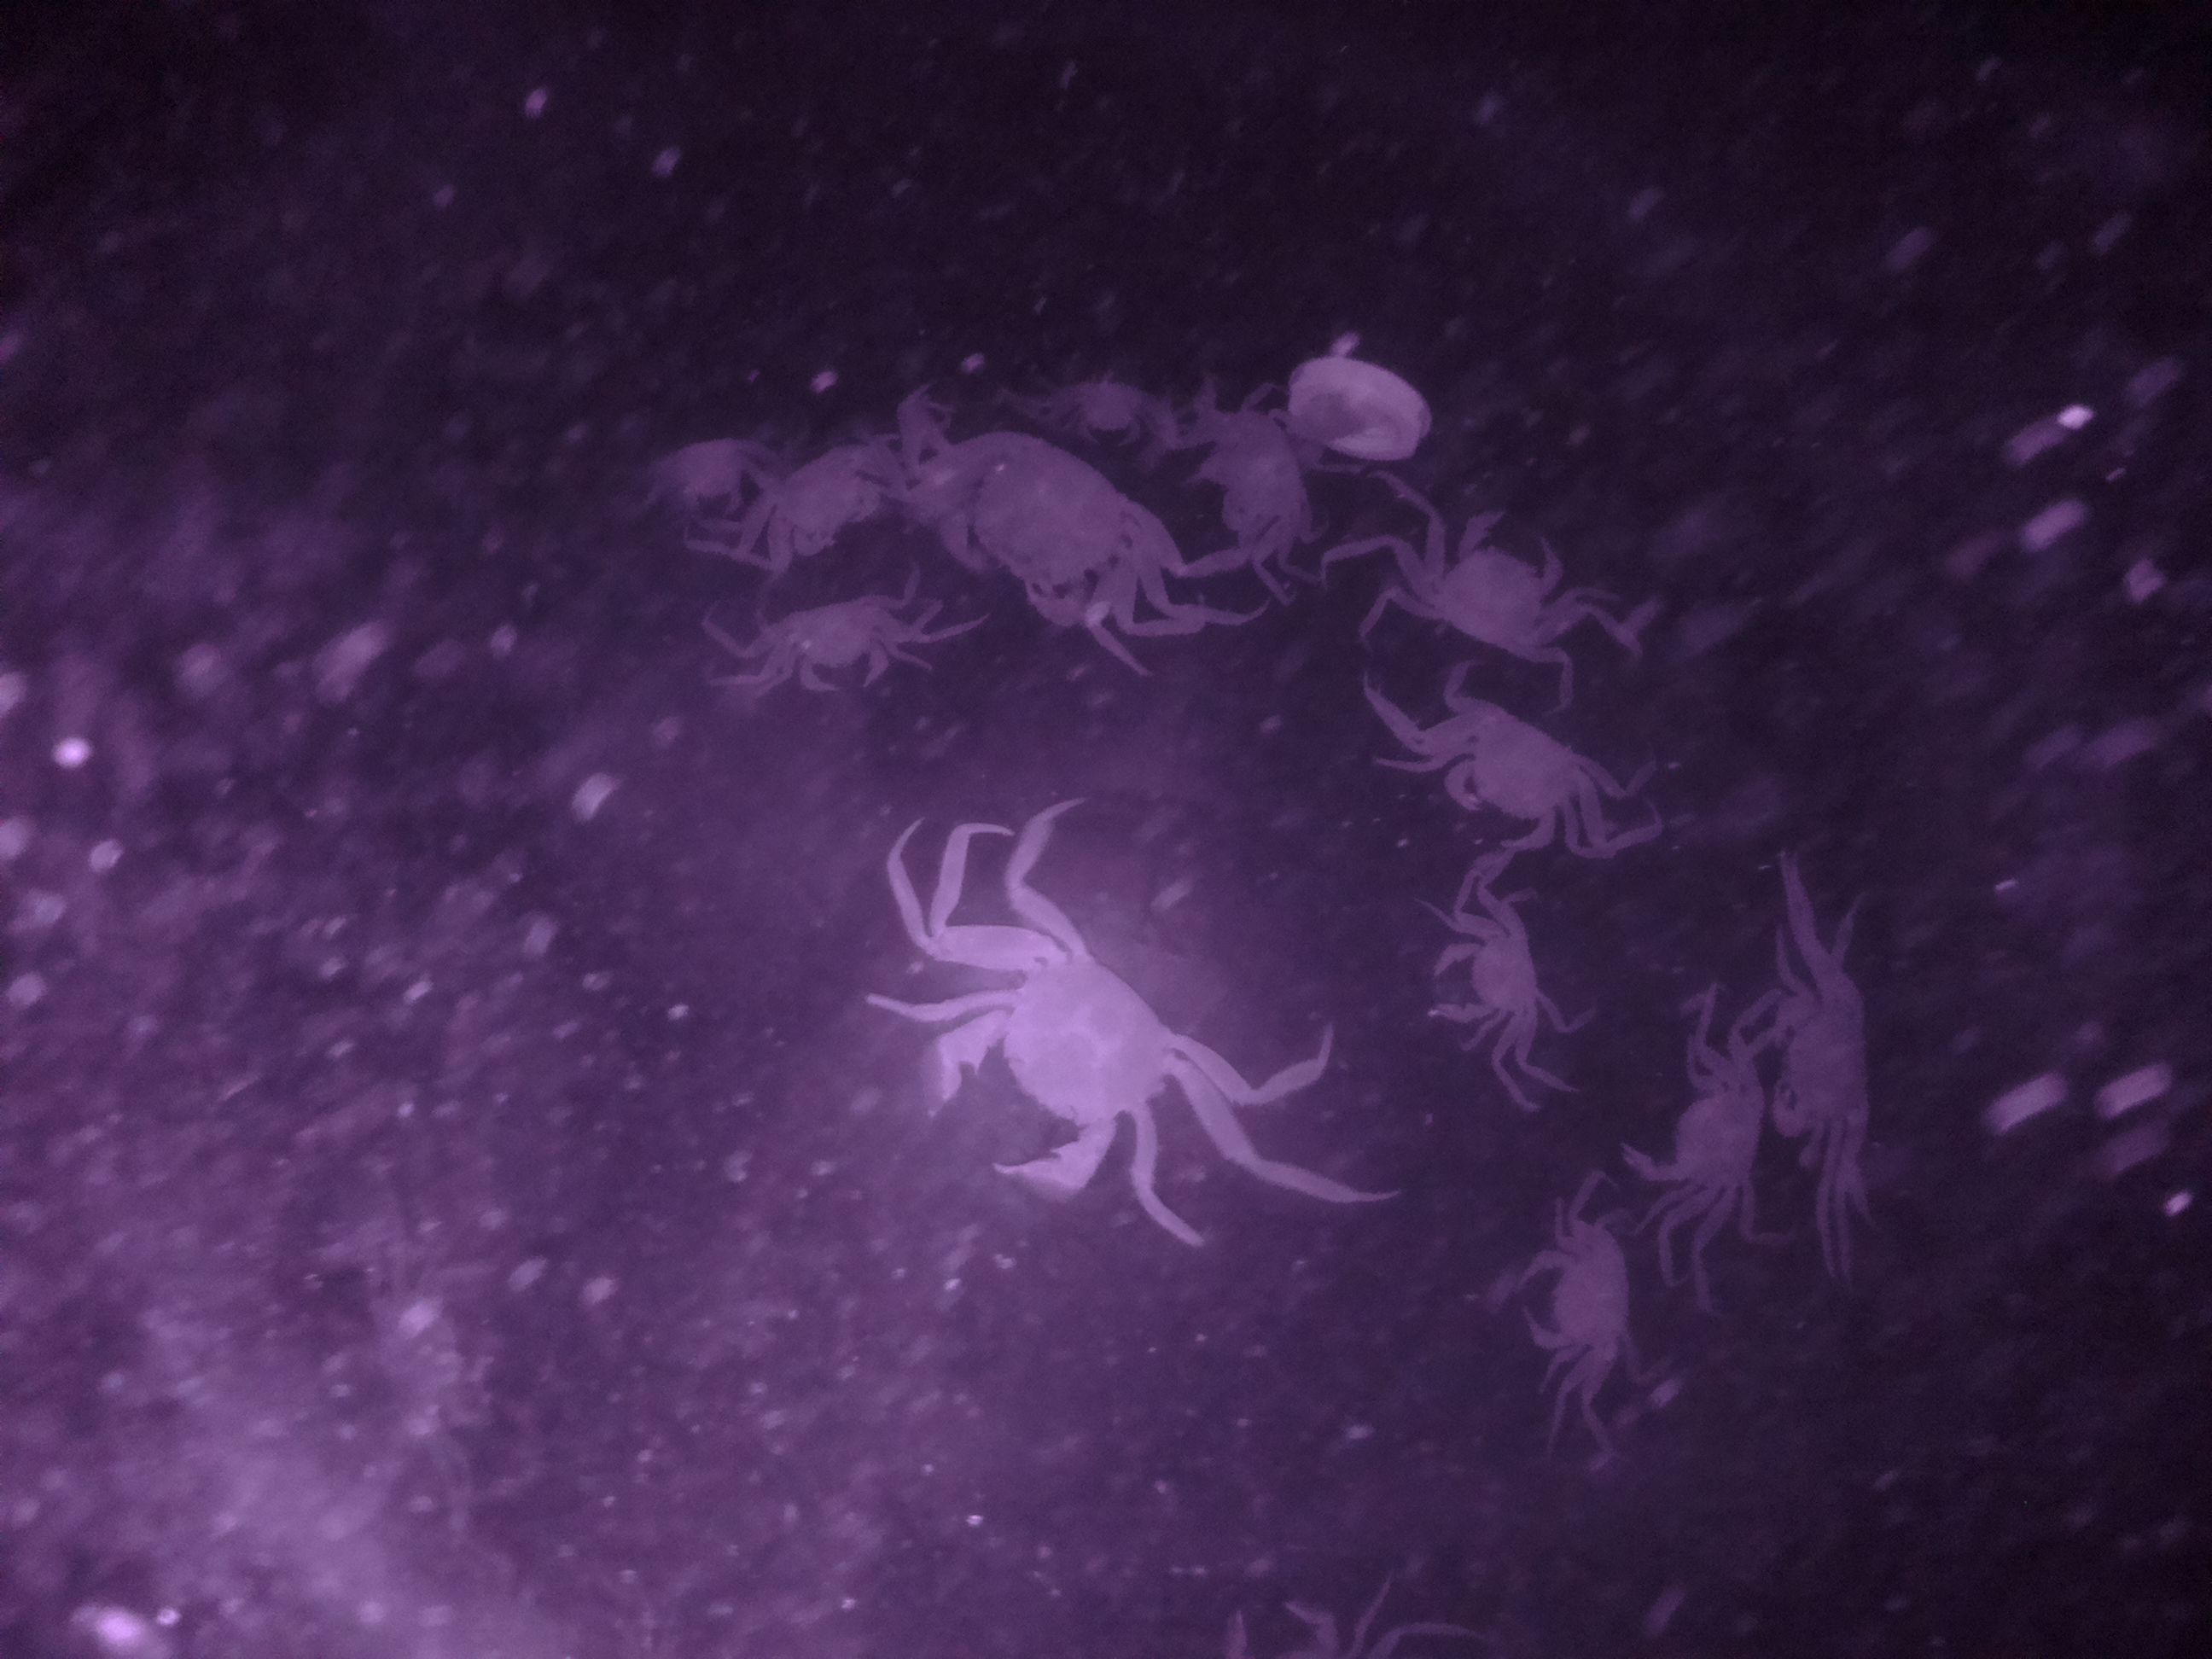Crab: (909, 951, 1205, 1202), (897, 415, 1184, 640), (1750, 967, 1898, 1159), (1426, 708, 1615, 857), (1195, 385, 1334, 580), (1426, 498, 1583, 655), (1620, 1053, 1778, 1201), (1508, 1222, 1639, 1375), (749, 587, 935, 694), (752, 427, 894, 566), (1414, 920, 1557, 1054)
